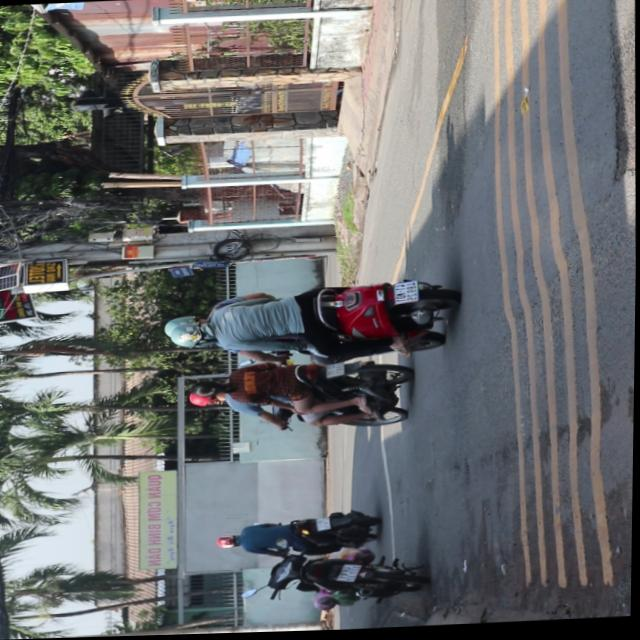helmet: (167, 323, 214, 349), (161, 316, 207, 338), (187, 391, 218, 407)
licenseplate: (156, 274, 458, 370), (184, 357, 414, 437)
motorcyclist: (190, 379, 226, 396)
nohelmet: (391, 283, 418, 306), (325, 363, 343, 379)
